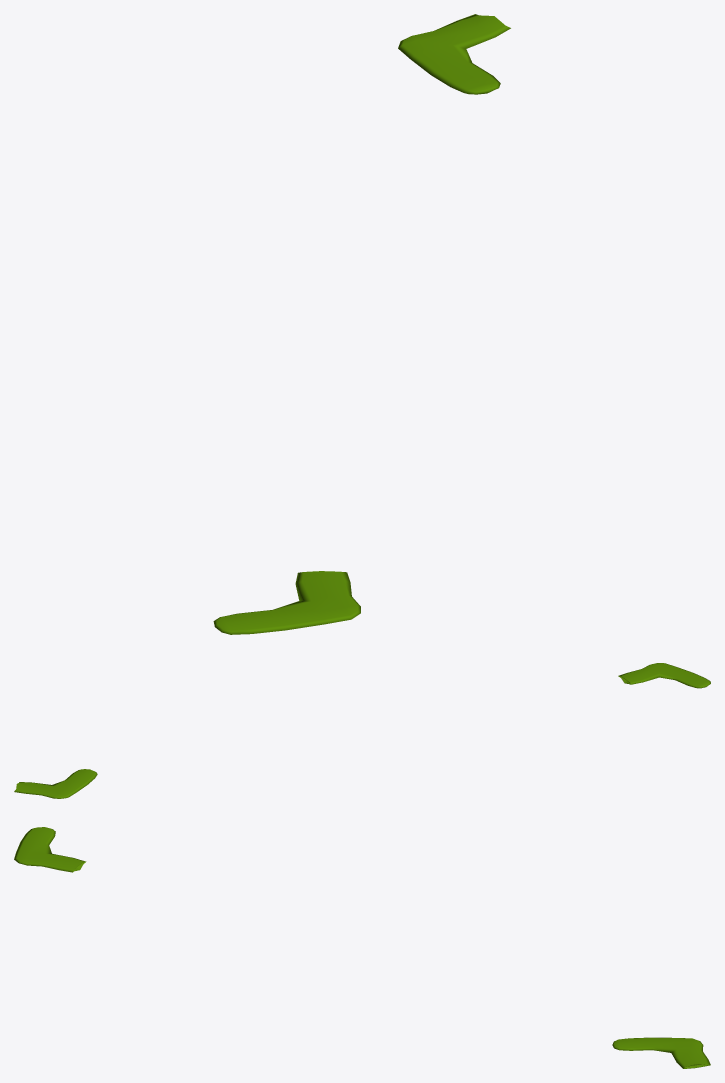
The model's file is geo_chaussettes.fbx.
3 renders of one model, top to bottom at view 1: azimuth 30°, elevation 25°; view 2: azimuth 150°, elevation 25°; view 3: azimuth 270°, elevation 25°, orthographic. The views are drawn at different scales.
Parts seen in each view (by area): view 1: geo_chaussette, geo_chaussette2; view 2: geo_chaussette2, geo_chaussette; view 3: geo_chaussette, geo_chaussette2.
Boxes of the visible parts, x1,y1,x2,y2 form: geo_chaussette: (398,14,510,94); geo_chaussette2: (213,571,360,634); geo_chaussette2: (618,663,710,688); geo_chaussette: (14,769,97,798); geo_chaussette: (612,1037,710,1068); geo_chaussette2: (14,827,86,872).
Size of the model in its own units: 251 by 3.11 by 307.
